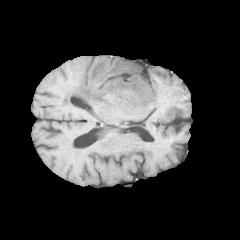glioma: (56, 59, 159, 111)
